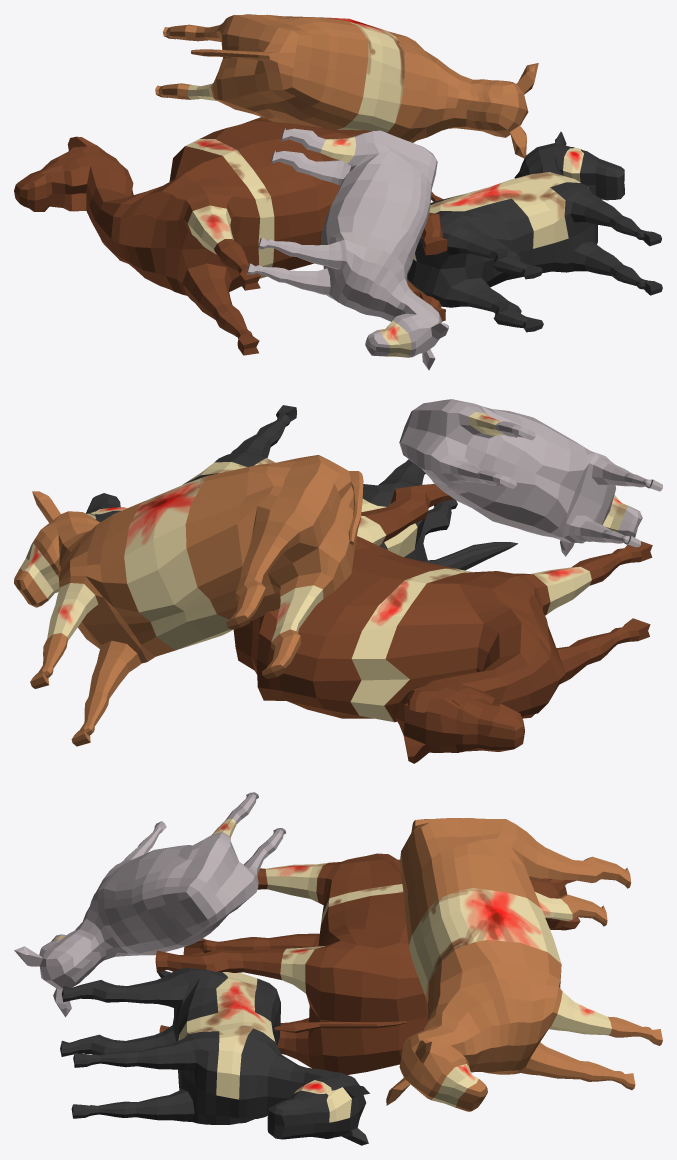
The picture shows the model from 3 angles, top to bottom: view 1: azimuth 30°, elevation 25°; view 2: azimuth 150°, elevation 25°; view 3: azimuth 270°, elevation 25°; orthographic projection. The views are drawn at different scales.
Parts seen in each view (by area): view 1: 尸体; view 2: 尸体; view 3: 尸体.
Boxes of the visible parts, box(x1,y1,x2,y2) form: 尸体: box(14, 14, 662, 370); 尸体: box(14, 399, 662, 763); 尸体: box(14, 792, 662, 1145).
Size of the model in its own units: 151 by 63.11 by 167.
